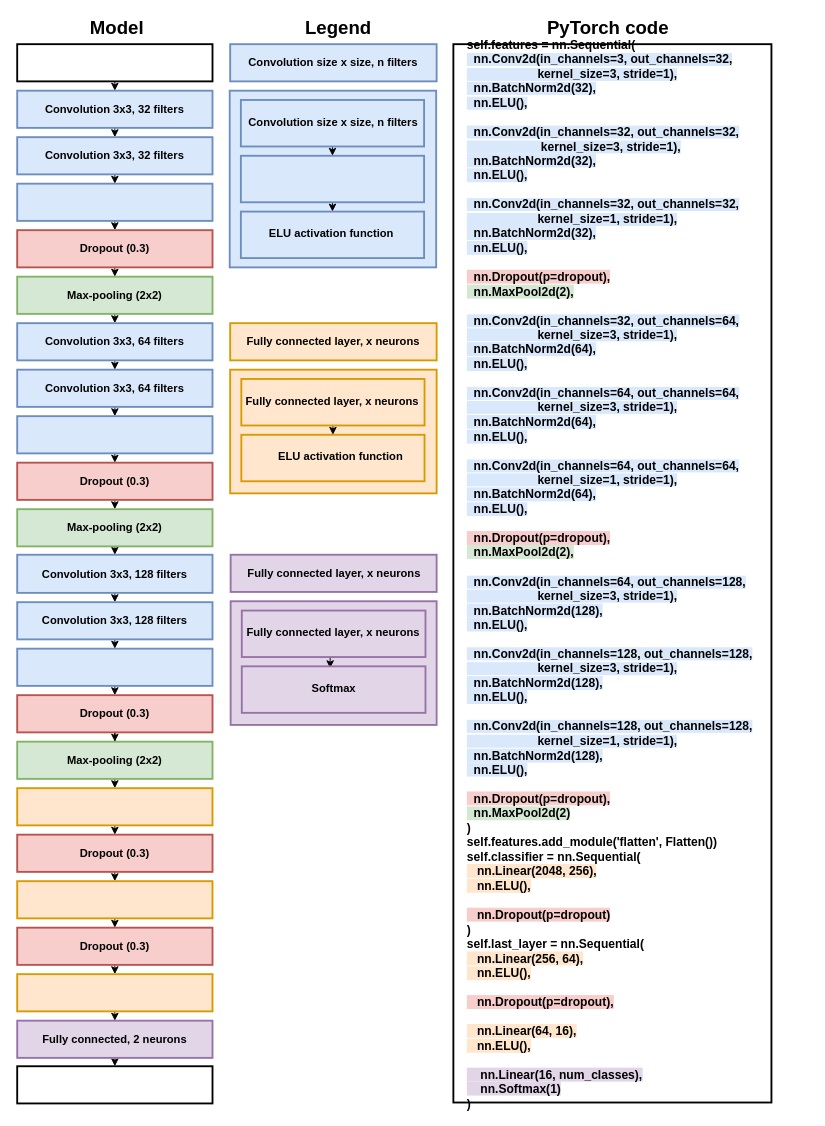
The diagram is 825 pixels wide and 1126 high, and some of its shapes have lost their labels. Here are the shapes that lost their labels. From the top down, the box of each, then its label:
(16, 43, 213, 82): Input
(239, 154, 425, 203): Batch normalization
(16, 182, 213, 221): Convolution 1x1, 32 filters
(16, 415, 213, 454): Convolution 1x1, 64 filters
(16, 647, 213, 686): Convolution 1x1, 128 filters
(16, 787, 213, 826): Fully connected, 256 neurons
(16, 880, 213, 919): Fully connected, 64 neurons
(16, 973, 213, 1012): Fully connected, 16 neurons
(16, 1065, 213, 1104): Output
